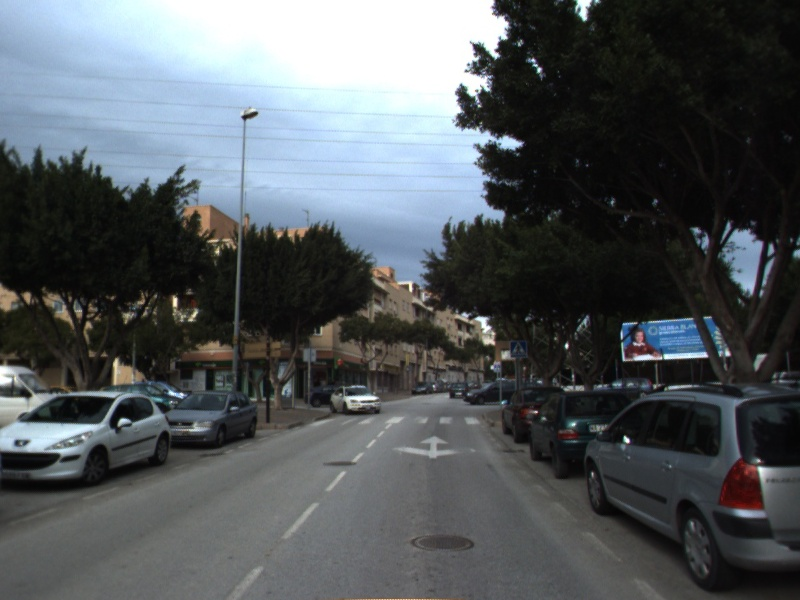STRAIGHT_LEFT_RIGHT: (389, 433, 479, 461)
